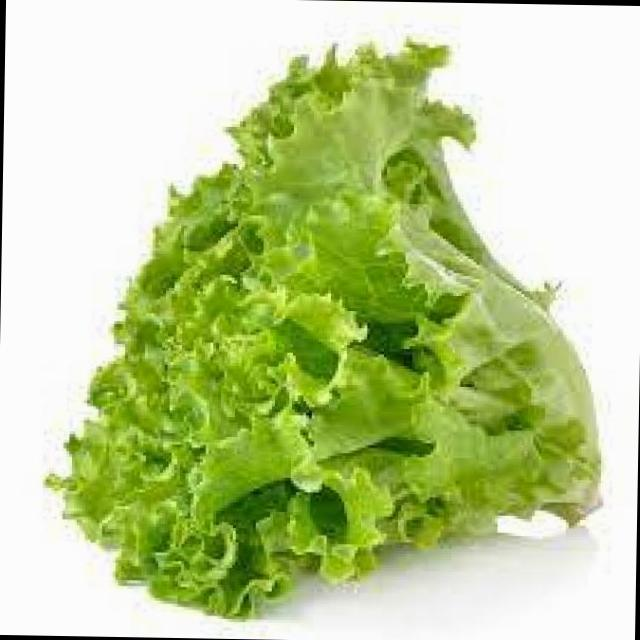Lettuce-Ready-to-Harvest: (52, 43, 598, 615)
